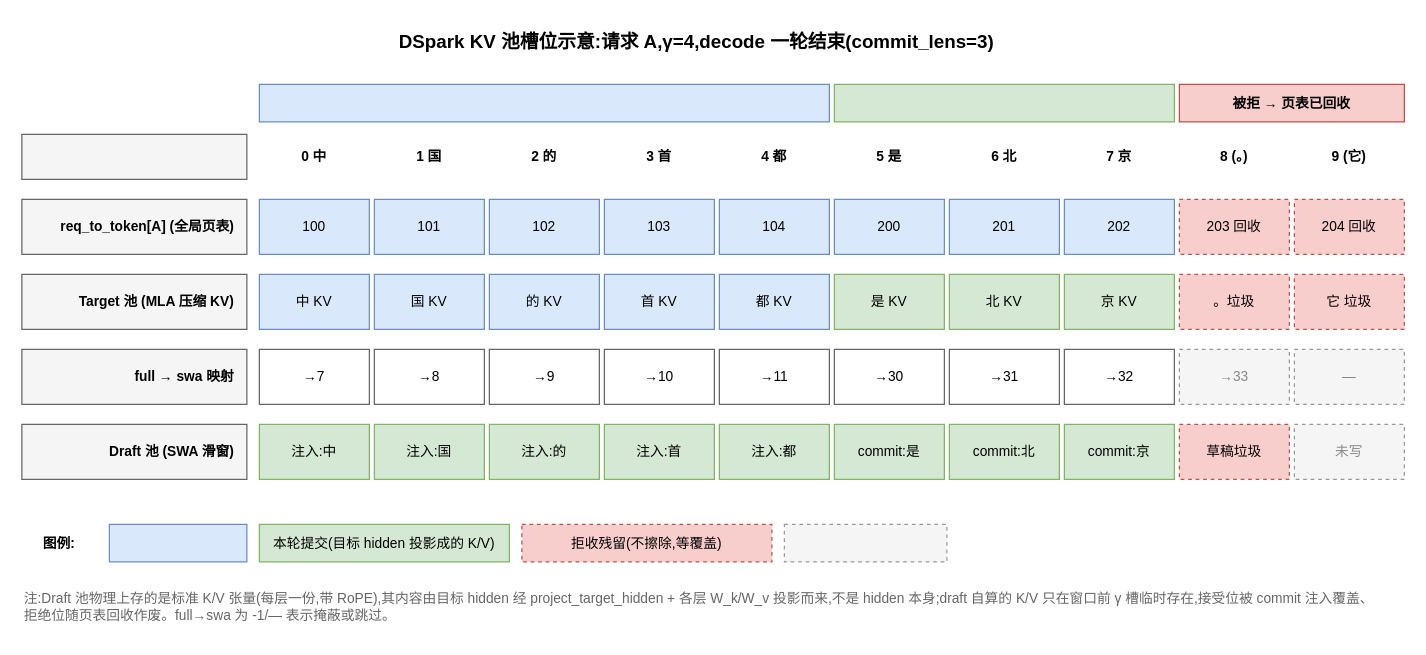
Image size: 1426x655. Some labels were removed from this diagram. Here are the shapes that lost their labels. From the top down, the centre of each, then its label:
the point at 543,102: Prompt(prefill 注入)
the point at 1003,102: 本轮提交 commit_lens=3
the point at 134,156: 逻辑位置 pos
the point at 177,542: prefill 内容
the point at 865,542: 未写 / 无映射
